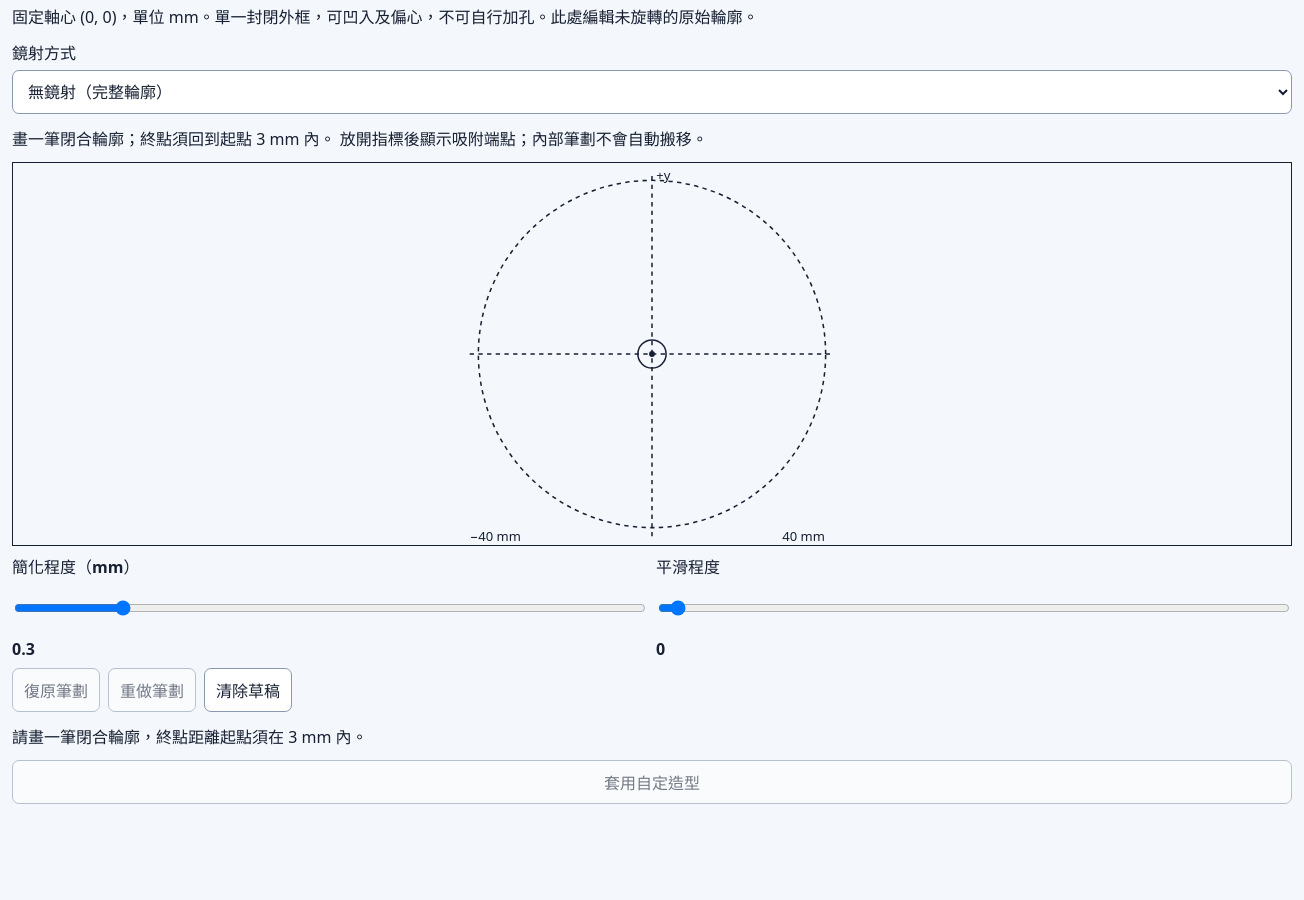
輪廓編輯器 › 中斷筆劃停留草稿，顯示錯誤且不能套用
This screenshot has width=1304, height=900.
Step 1. Press the mouse on the picture named "自定輪廓畫布" → [652, 354], box [12,162,1292,546]
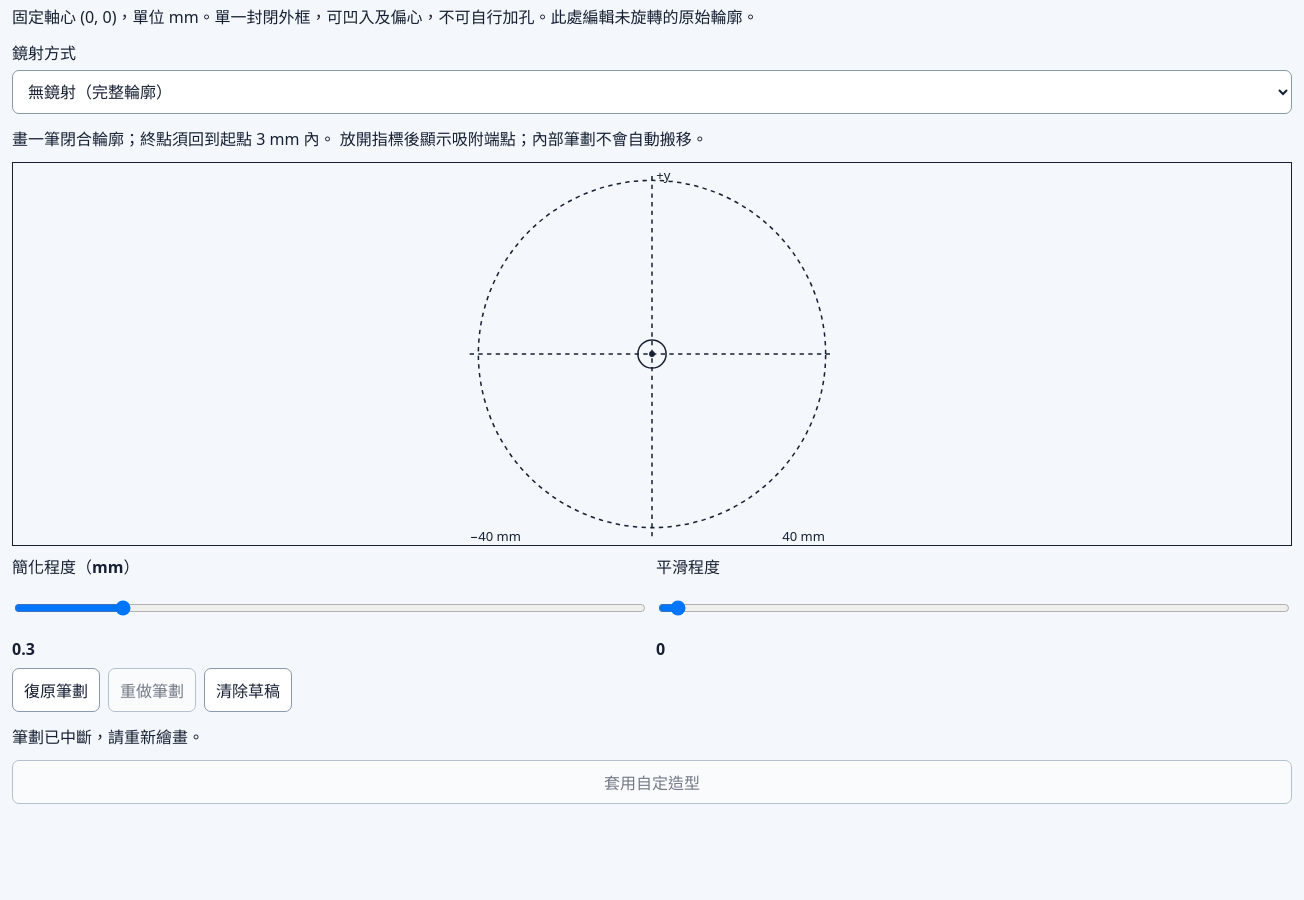
Expected: the button "套用自定造型" is disabled, [12,760,1292,804]
Now the message shows "筆劃已中斷", box [12,726,204,748]
